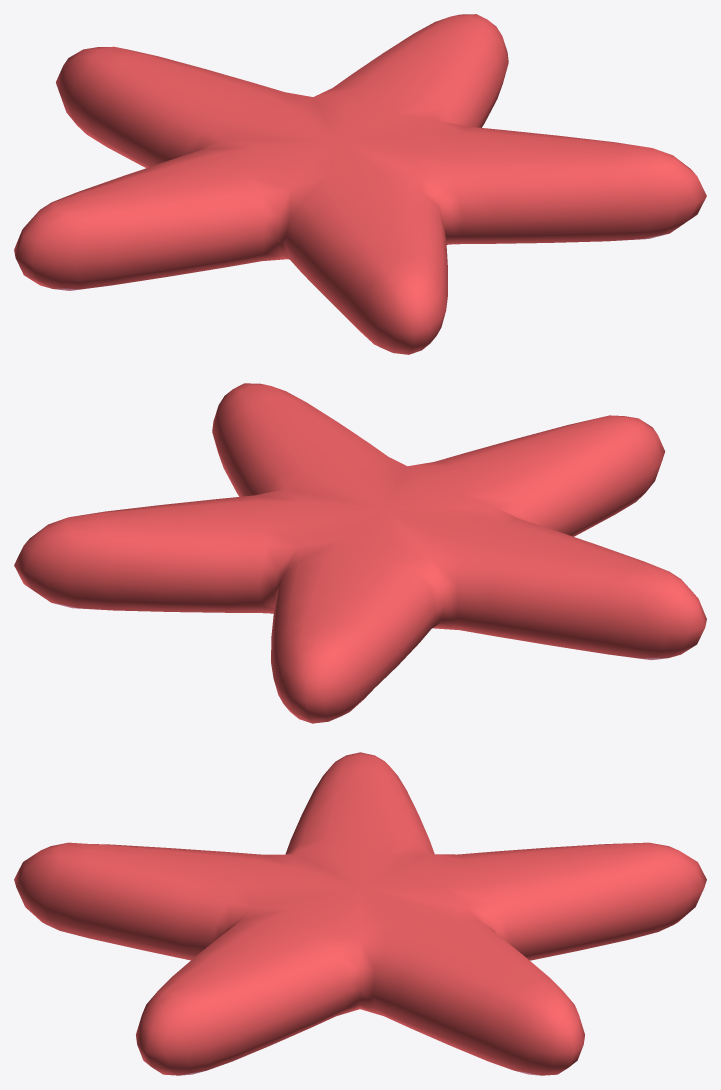
File: Starfish_01.fbx
3 renders of one model, top to bottom at view 1: azimuth 30°, elevation 25°; view 2: azimuth 150°, elevation 25°; view 3: azimuth 270°, elevation 25°, orthographic.
Parts seen in each view (by area): view 1: Starfish_01_LOD0; view 2: Starfish_01_LOD0; view 3: Starfish_01_LOD0.
Part boxes in pixels (x1,y1,x2,y2): Starfish_01_LOD0: (14, 14, 706, 354); Starfish_01_LOD0: (14, 383, 706, 723); Starfish_01_LOD0: (14, 752, 706, 1075).
Size of what is drawn, in the model's own units: 489 by 64 by 511.
